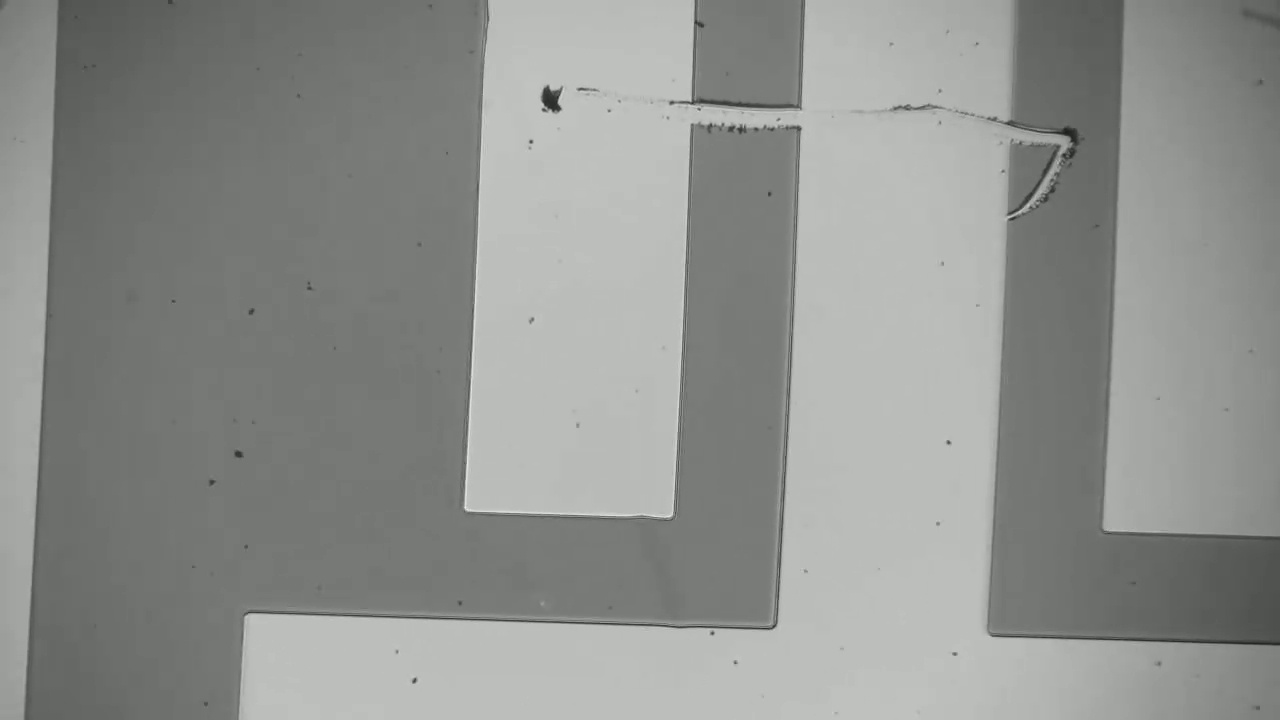Short_circuit: (652, 79, 832, 158), (981, 92, 1131, 171)
